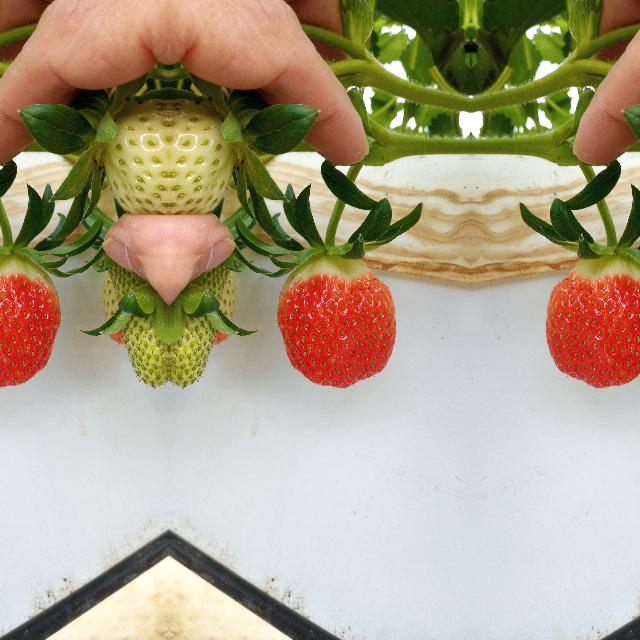Health_100: (276, 254, 396, 388), (544, 253, 640, 388), (0, 253, 60, 388)
Health_25: (168, 102, 246, 216), (90, 102, 168, 216), (168, 260, 245, 332), (92, 260, 168, 332), (168, 314, 222, 388), (114, 314, 168, 388)
